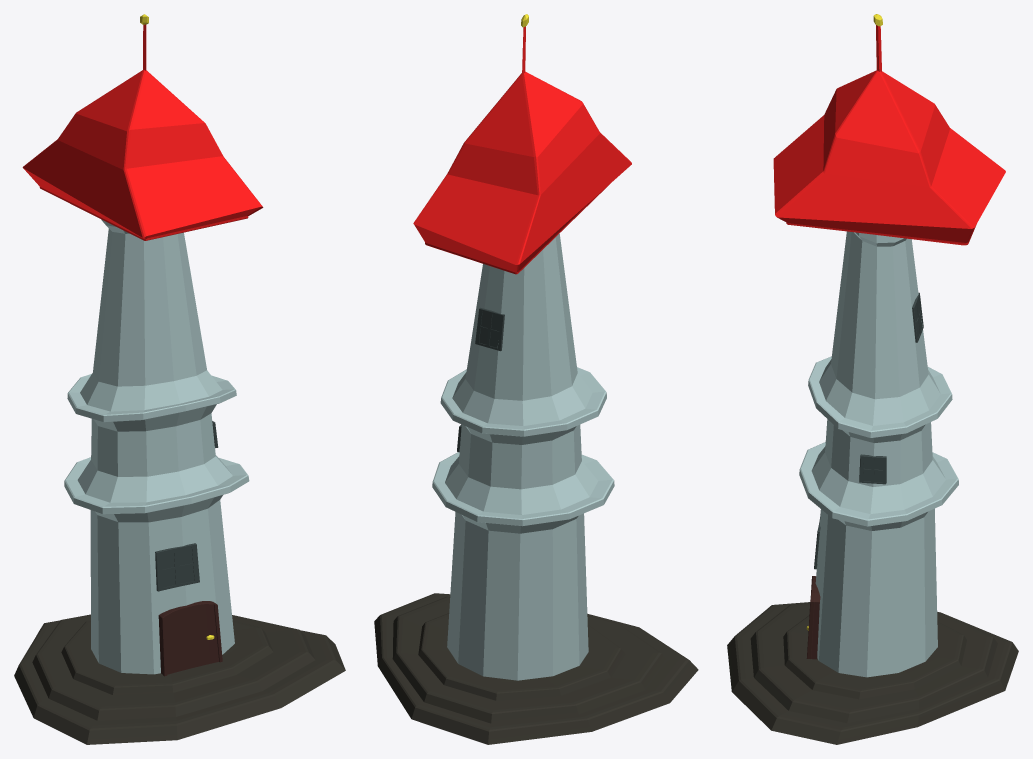
The model's file is tower_c.fbx.
3 renders of one model, left to right at view 1: azimuth 30°, elevation 25°; view 2: azimuth 150°, elevation 25°; view 3: azimuth 270°, elevation 25°, orthographic. The views are drawn at different scales.
Parts seen in each view (by area): view 1: tower_c; view 2: tower_c; view 3: tower_c.
Part boxes in pixels (x1=…): tower_c: x1=14, y1=14, x2=345, y2=744; tower_c: x1=374, y1=14, x2=698, y2=744; tower_c: x1=727, y1=14, x2=1018, y2=744.
Bounding box in the file's own units: 91.33 × 194 × 78.6.
